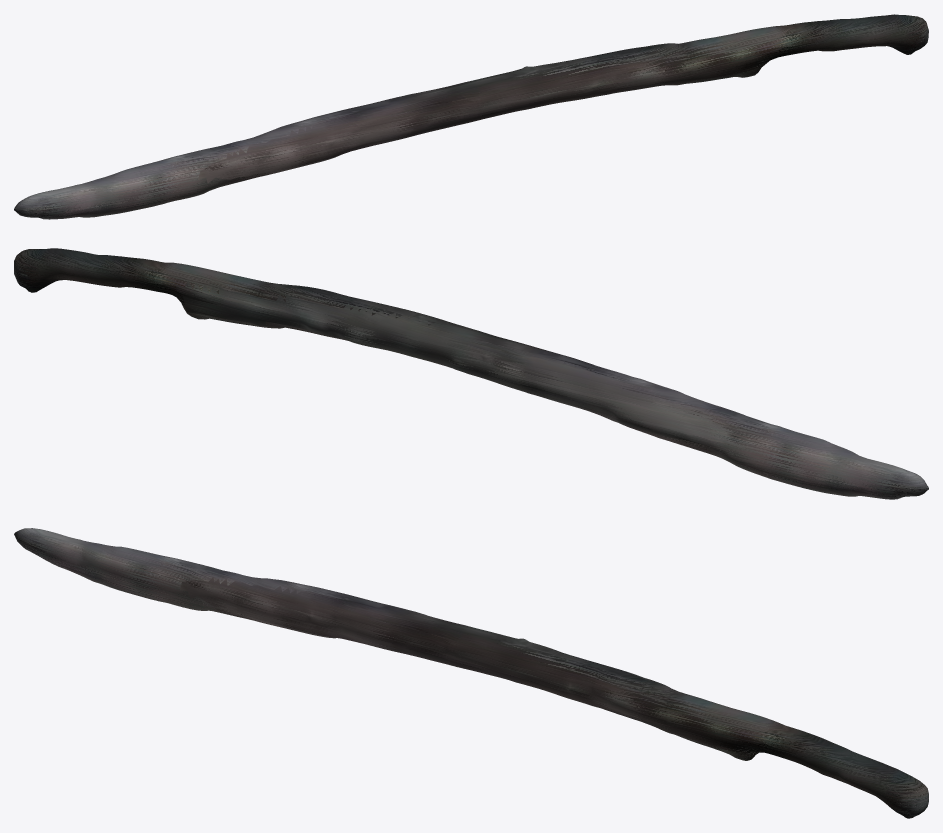
The model's file is kfl-2266.glb.
3 renders of one model, top to bottom at view 1: azimuth 30°, elevation 25°; view 2: azimuth 150°, elevation 25°; view 3: azimuth 330°, elevation 25°, orthographic. The views are drawn at different scales.
Visible parts, largest first — view 1: geometry_0; view 2: geometry_0; view 3: geometry_0.
Boxes of the visible parts, <box> form: geometry_0: <box>14,14,928,219</box>; geometry_0: <box>14,248,928,499</box>; geometry_0: <box>14,528,928,818</box>.
Size of the model in its own units: 0.9839 by 0.0783 by 0.0745.
1 material, 1 textured.
